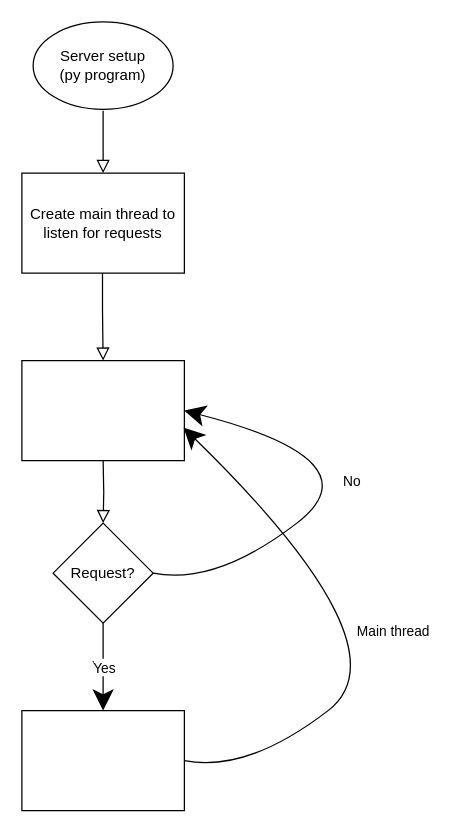
Some shapes in this 451 by 833 pixel diagram are drawn without their labels. Each missing label, with the box of its shape:
Create a new thread and send the info from the request: (21, 709, 184, 811)
Open port and wait for requests: (21, 359, 184, 461)
